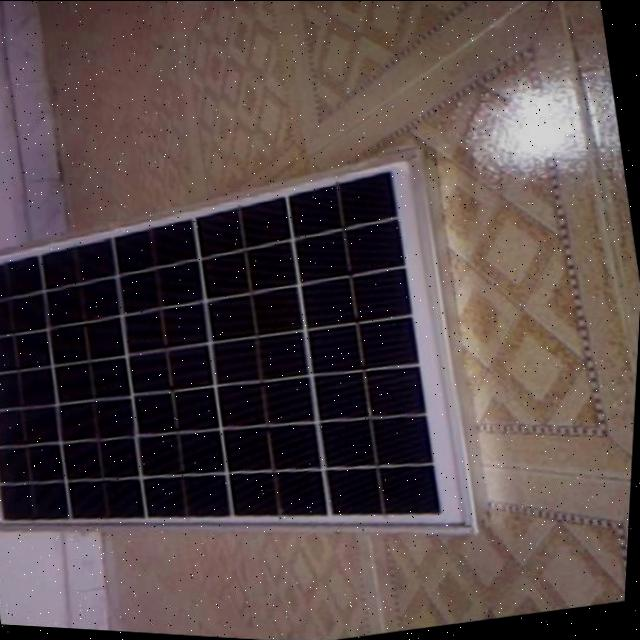Normal Solar Panel: (0, 126, 508, 626)
